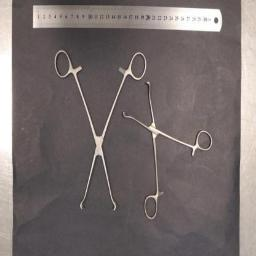Babcock Tissue Forceps: (124, 80, 212, 220)
